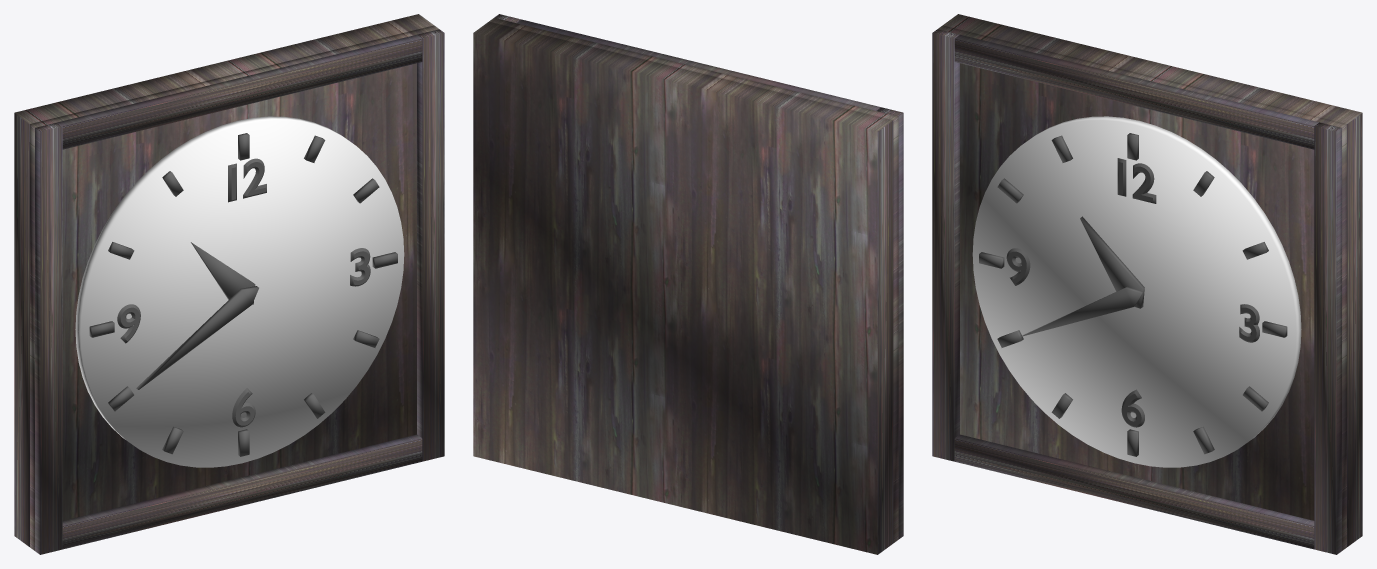
The model's file is wall clock 01.fbx.
3 renders of one model, left to right at view 1: azimuth 30°, elevation 25°; view 2: azimuth 150°, elevation 25°; view 3: azimuth 330°, elevation 25°, orthographic.
Parts seen in each view (by area): view 1: Wall Clock, Minute Hand, Hour Hand; view 2: Wall Clock; view 3: Wall Clock, Minute Hand, Hour Hand.
Boxes of the visible parts, x1,y1,x2,y2 form: Wall Clock: (14, 14, 444, 554); Minute Hand: (136, 286, 258, 389); Hour Hand: (191, 242, 255, 304); Wall Clock: (473, 14, 903, 554); Wall Clock: (932, 14, 1362, 554); Minute Hand: (1021, 286, 1143, 336); Hour Hand: (1080, 216, 1144, 308).
Size of the model in its own units: 900 by 900 by 120.
